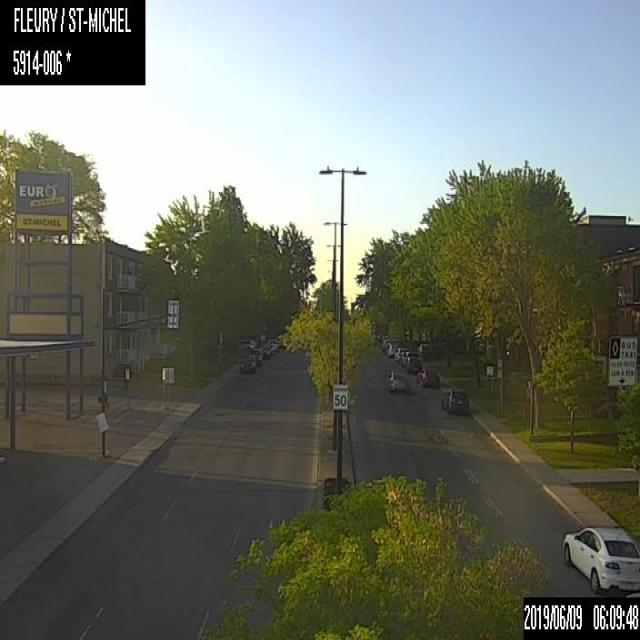vehicle: (559, 521, 639, 596), (441, 386, 469, 414), (415, 365, 442, 390), (385, 370, 407, 390), (403, 350, 421, 372), (238, 355, 255, 373), (392, 344, 407, 364), (249, 346, 263, 365), (233, 338, 255, 348), (258, 344, 270, 358), (386, 342, 396, 356)
